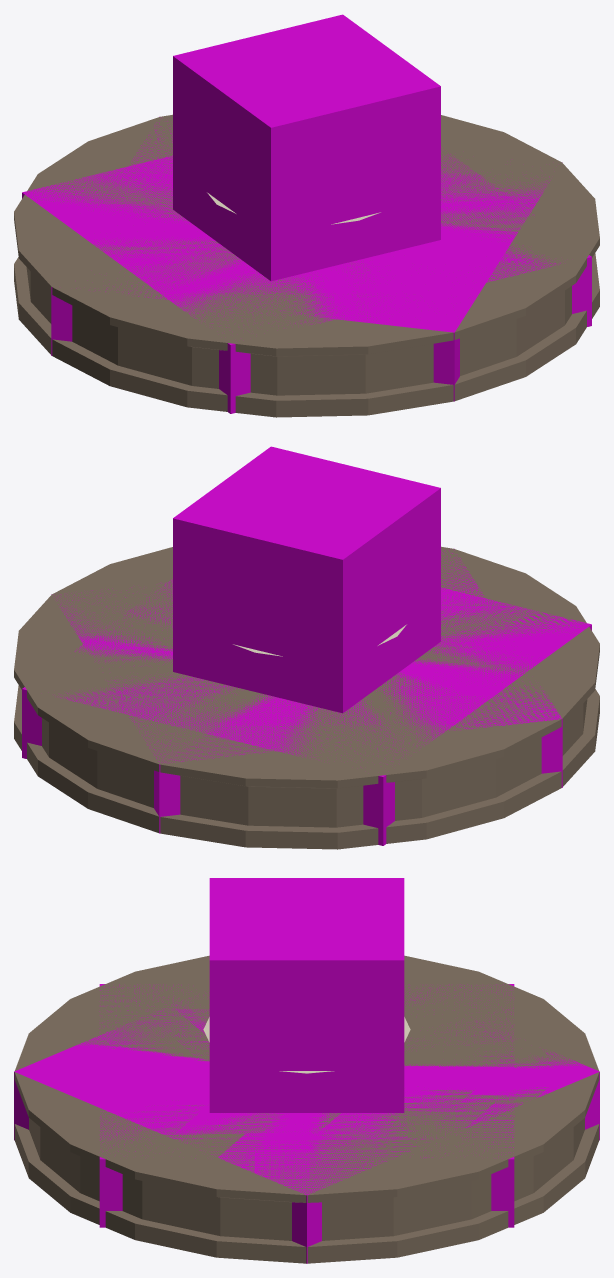
File: ENV_Tree_Platform_A.glb
3 views of the same model, one above another, from view 1: azimuth 30°, elevation 25°; view 2: azimuth 150°, elevation 25°; view 3: azimuth 270°, elevation 25° (orthographic).
Visible parts, largest first — view 1: ENV_Tree_Platform_A_Mesh, COL_Core, WALK_Platform, WALK_Platform_rot; view 2: ENV_Tree_Platform_A_Mesh, COL_Core, WALK_Platform, WALK_Platform_rot; view 3: ENV_Tree_Platform_A_Mesh, COL_Core, WALK_Platform_rot, WALK_Platform.
Part boxes in pixels (x1,y1,x2,y2): ENV_Tree_Platform_A_Mesh: [14, 114, 599, 417]; COL_Core: [173, 14, 440, 281]; WALK_Platform: [22, 154, 591, 413]; WALK_Platform_rot: [51, 116, 562, 401]; ENV_Tree_Platform_A_Mesh: [14, 546, 599, 849]; COL_Core: [173, 446, 440, 713]; WALK_Platform: [22, 579, 591, 845]; WALK_Platform_rot: [51, 548, 562, 833]; ENV_Tree_Platform_A_Mesh: [14, 955, 599, 1263]; COL_Core: [209, 878, 404, 1112]; WALK_Platform_rot: [14, 998, 599, 1263]; WALK_Platform: [99, 984, 514, 1227].
Bounding box in the file's own units: 4.81 × 2 × 4.81.
